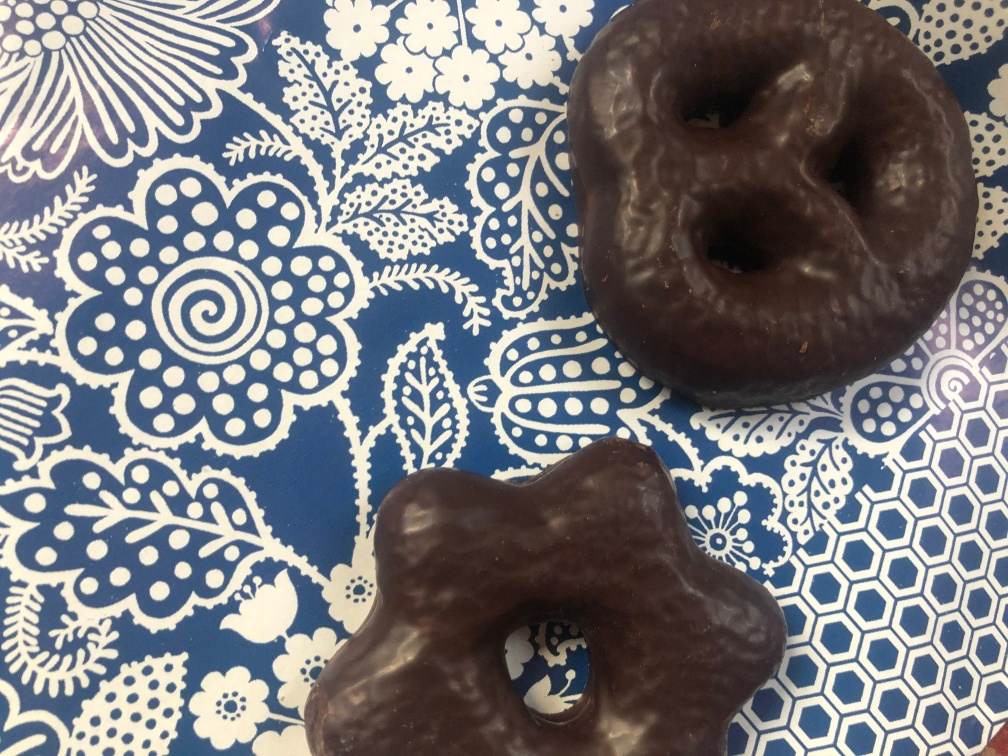bretzel: (570, 4, 979, 410)
star: (305, 437, 785, 755)
